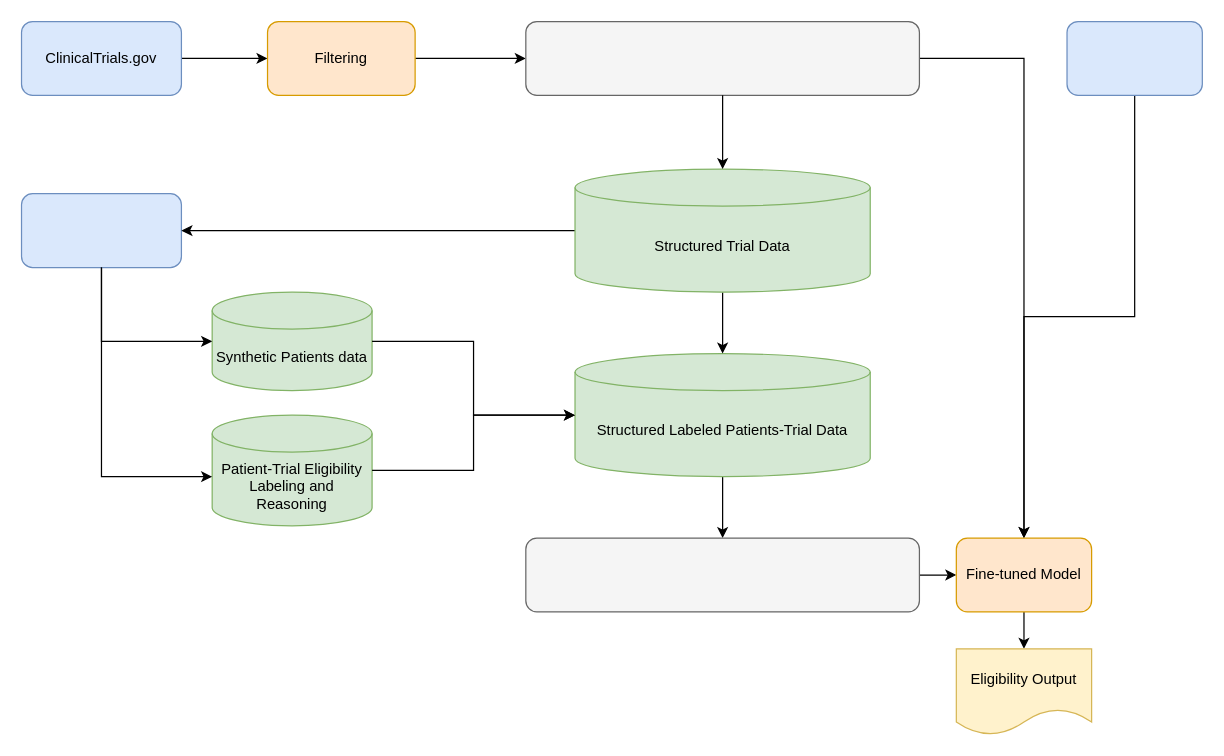
This 1224x756 diagram has some shape labels left out. The centre of each missing label's shape, as x and y in pixels:
Eligibility Parsing llama-4-maverick-17b-128e-instruct - Groq free API: the point at 722,57
Fine-tuning unsloth/Meta-Llama-3.1-8B-Instruct-bnb-4bit: the point at 722,574
Frontier LLMs: the point at 100,230
Patients json: the point at 1134,57
